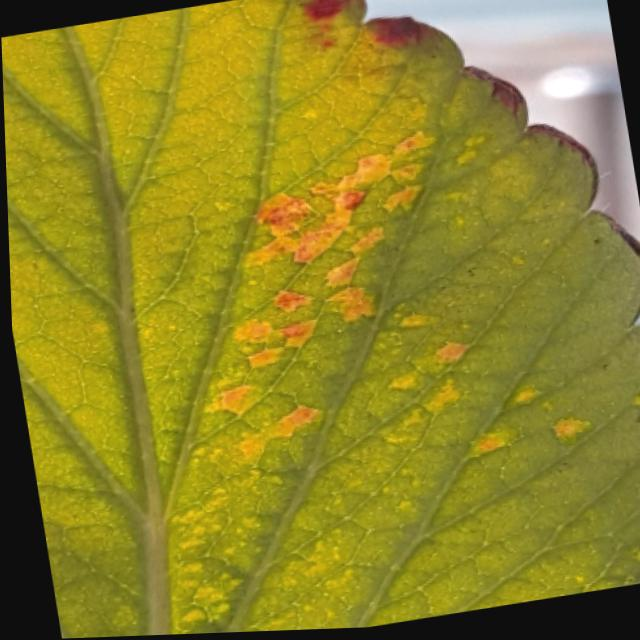Angular Leafspot: (145, 66, 608, 636)
